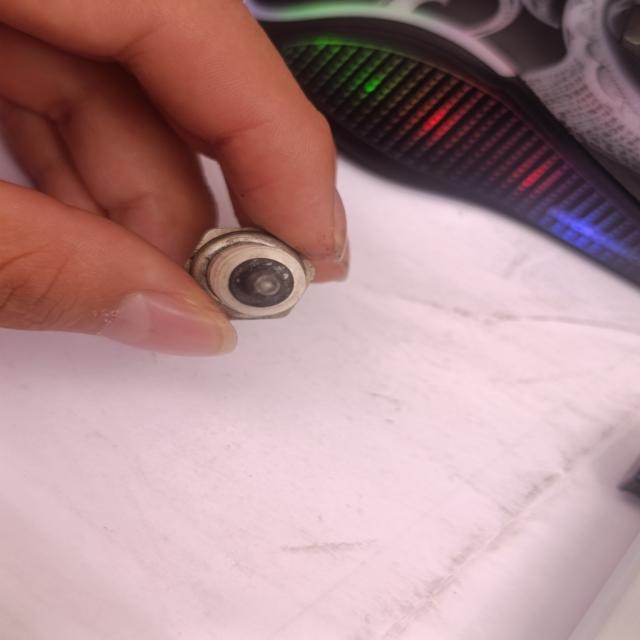bujia: (185, 228, 315, 320)
